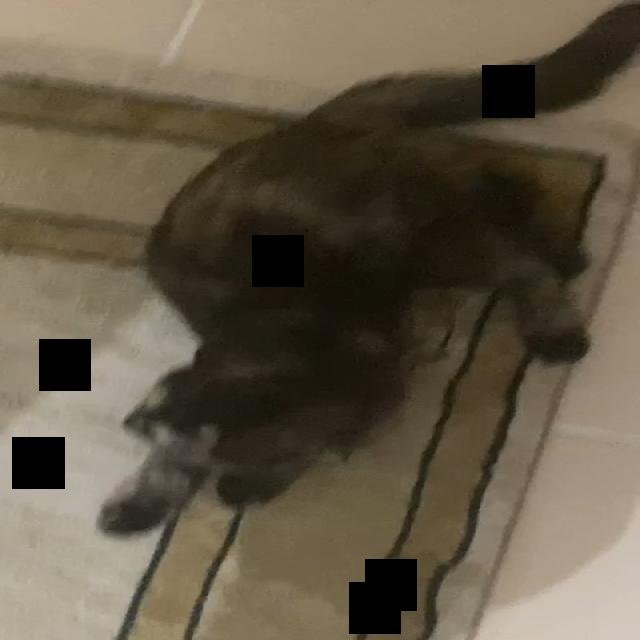authorized: (92, 1, 637, 638)
